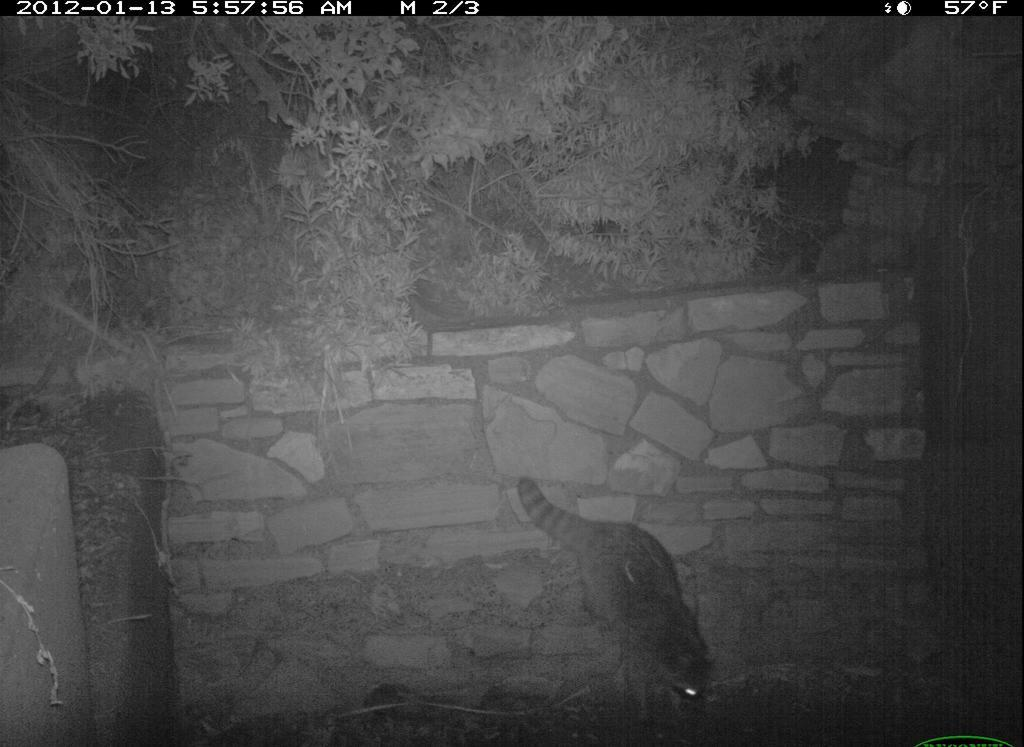raccoon: (502, 461, 722, 725)
